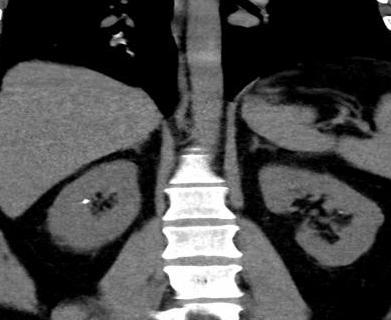Tas_Var: (79, 196, 92, 208), (336, 209, 346, 215)
